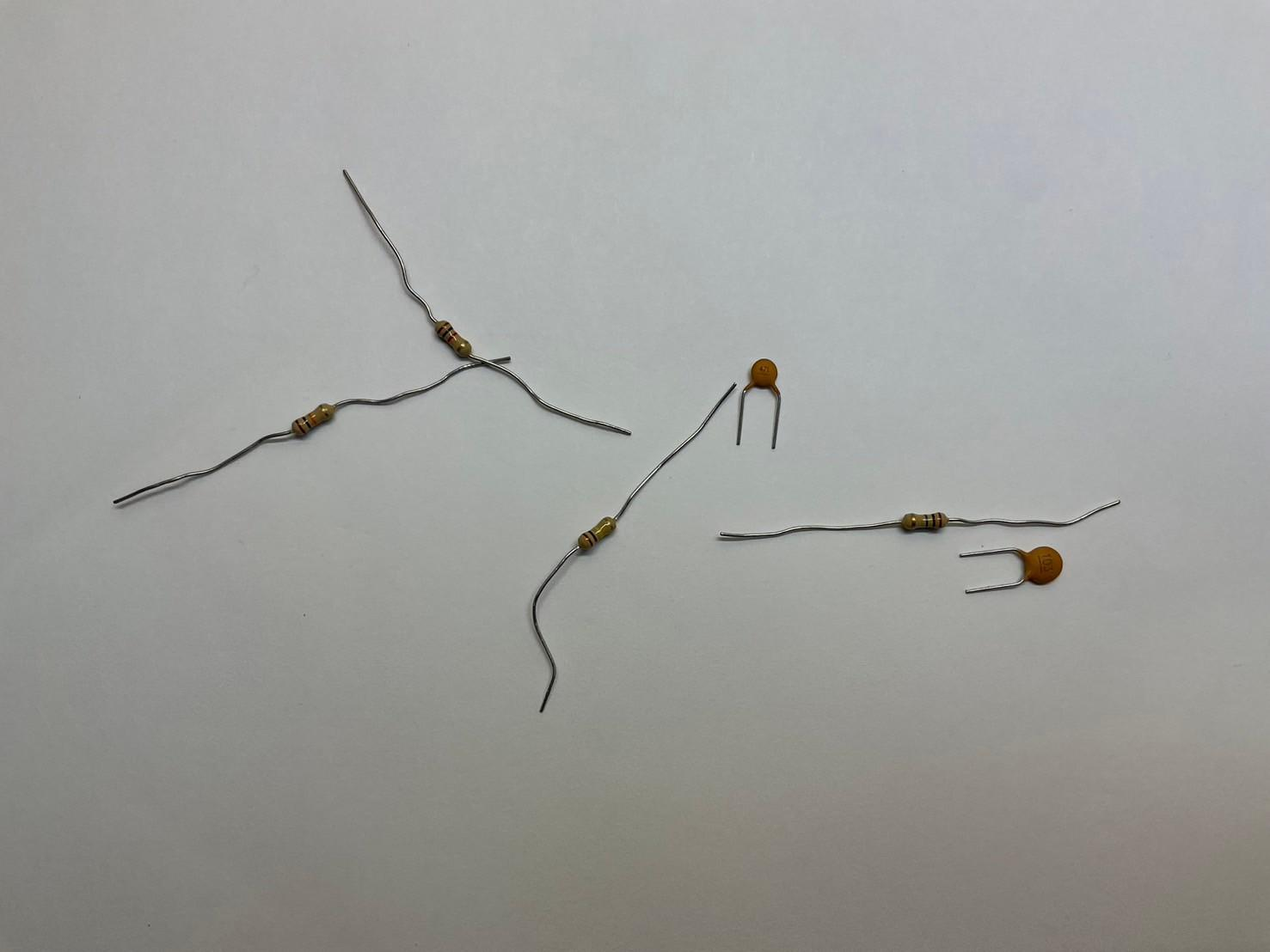resistor: (431, 319, 473, 359), (290, 403, 335, 435), (577, 517, 617, 550), (903, 511, 949, 535)
